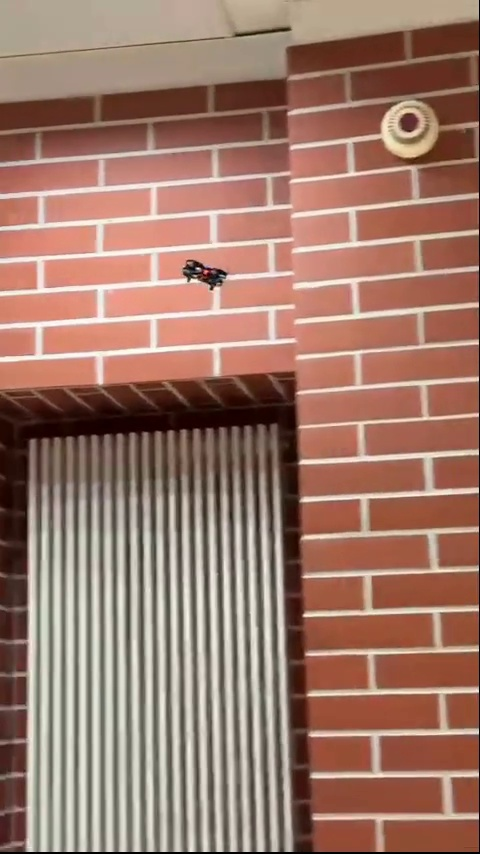drone: (178, 260, 233, 288)
